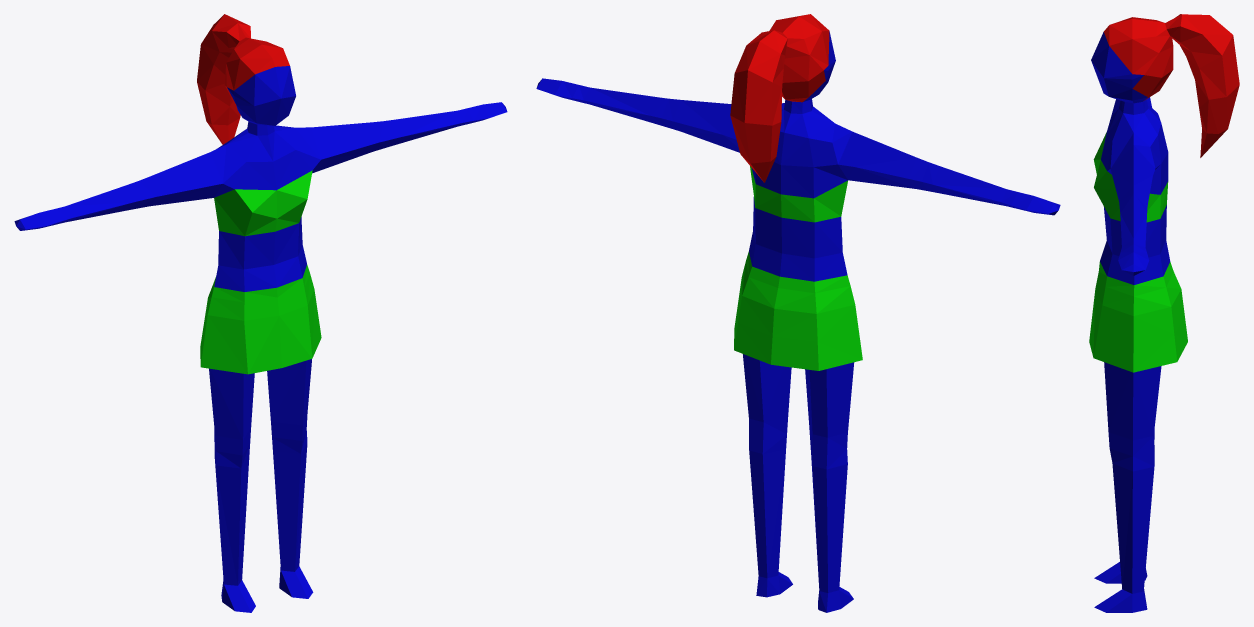
The model's file is Swimwear_Female_YoungAdult_NoArmature.fbx.
3 renders of one model, left to right at view 1: azimuth 30°, elevation 25°; view 2: azimuth 150°, elevation 25°; view 3: azimuth 270°, elevation 25°, orthographic. The views are drawn at different scales.
Visible parts, largest first — view 1: Swimwear_Female_YoungAdult; view 2: Swimwear_Female_YoungAdult; view 3: Swimwear_Female_YoungAdult.
Boxes of the visible parts, x1=… form: Swimwear_Female_YoungAdult: x1=14, y1=14, x2=507, y2=612; Swimwear_Female_YoungAdult: x1=536, y1=14, x2=1060, y2=612; Swimwear_Female_YoungAdult: x1=1089, y1=14, x2=1239, y2=612.
Size of the model in its own units: 138 by 149 by 35.11.
